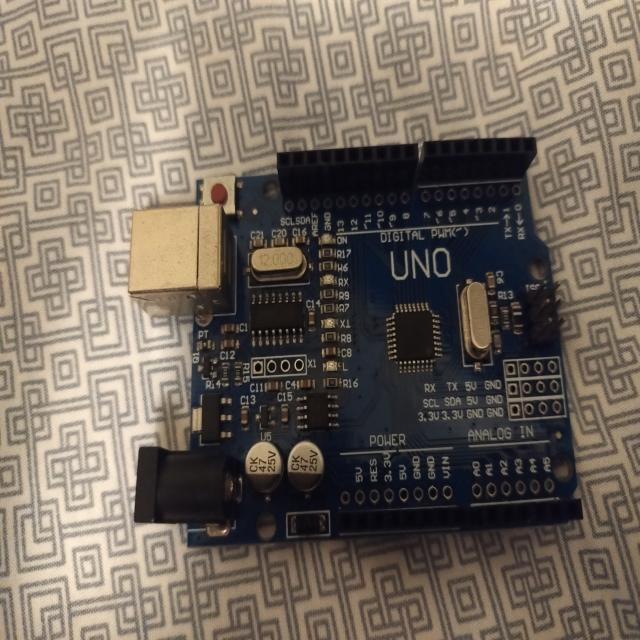arduino: (125, 121, 595, 559)
